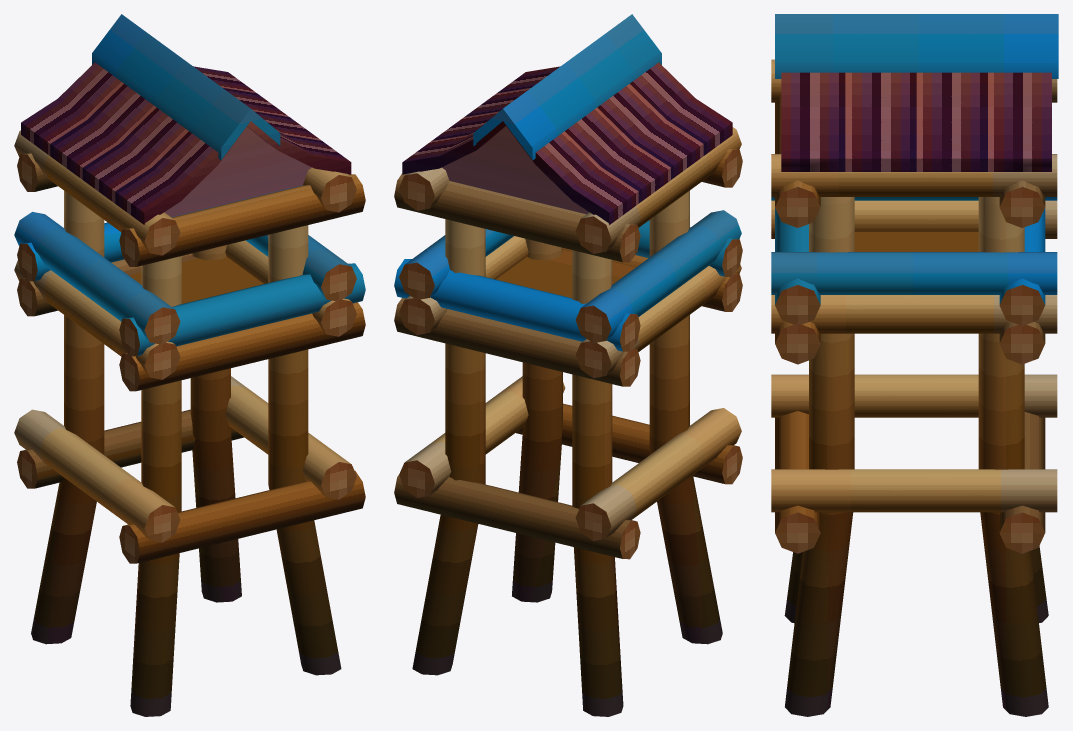
File: simple_low_poly_tower_lvl1.glb
The picture shows the model from 3 angles, left to right: view 1: azimuth 30°, elevation 25°; view 2: azimuth 150°, elevation 25°; view 3: azimuth 270°, elevation 25°; orthographic projection. The views are drawn at different scales.
Visible parts, largest first — view 1: tower_lvl1_Material #26_0; view 2: tower_lvl1_Material #26_0; view 3: tower_lvl1_Material #26_0.
Part boxes in pixels (<box>): tower_lvl1_Material #26_0: <box>14,14,365,716</box>; tower_lvl1_Material #26_0: <box>394,14,742,716</box>; tower_lvl1_Material #26_0: <box>771,14,1058,716</box>.
Bounding box in the file's own units: 2 × 5 × 2.01.
Materials: 1 (1 with a texture image).
